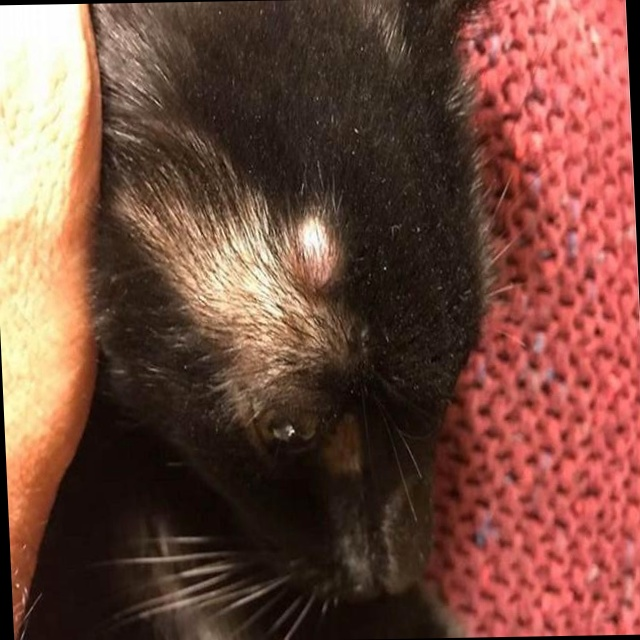lump_and_bump: (291, 224, 340, 270)
